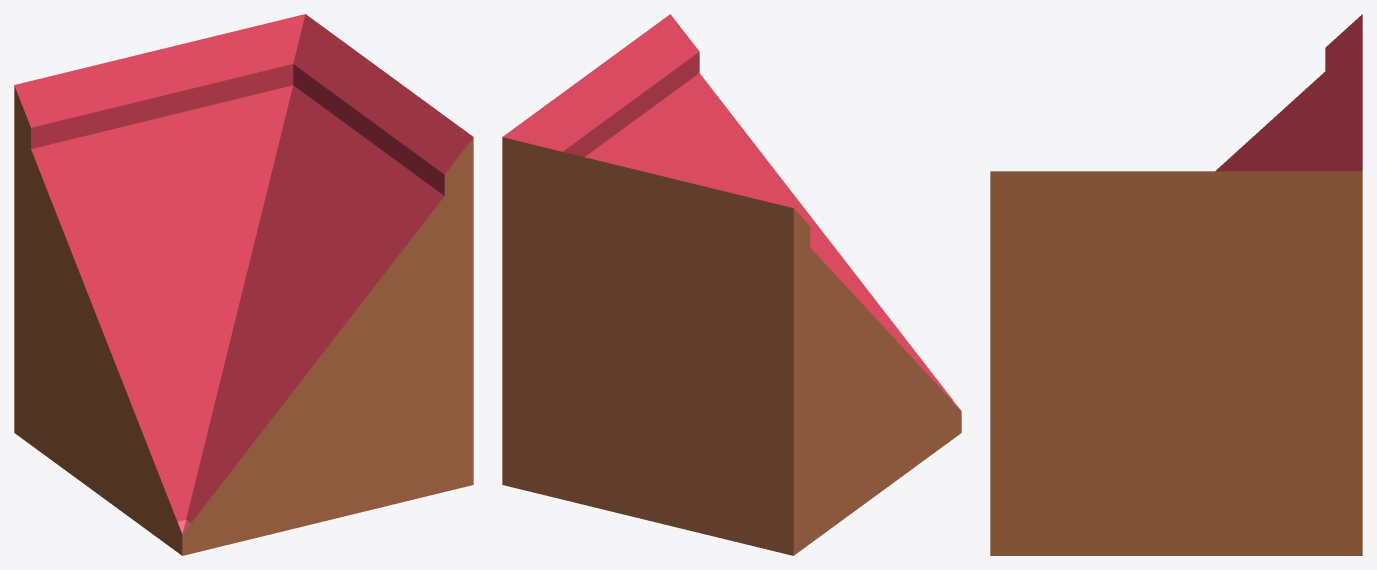
The model's file is roofHighCornerInner.fbx.
The picture shows the model from 3 angles, left to right: view 1: azimuth 30°, elevation 25°; view 2: azimuth 150°, elevation 25°; view 3: azimuth 270°, elevation 25°; orthographic projection. The views are drawn at different scales.
Parts seen in each view (by area): view 1: roofHighCornerInner; view 2: roofHighCornerInner; view 3: roofHighCornerInner.
Boxes of the visible parts, x1,y1,x2,y2 form: roofHighCornerInner: (14,14,473,555); roofHighCornerInner: (502,14,961,555); roofHighCornerInner: (990,14,1362,555).
Bounding box in the file's own units: 10 × 11.41 × 10.
